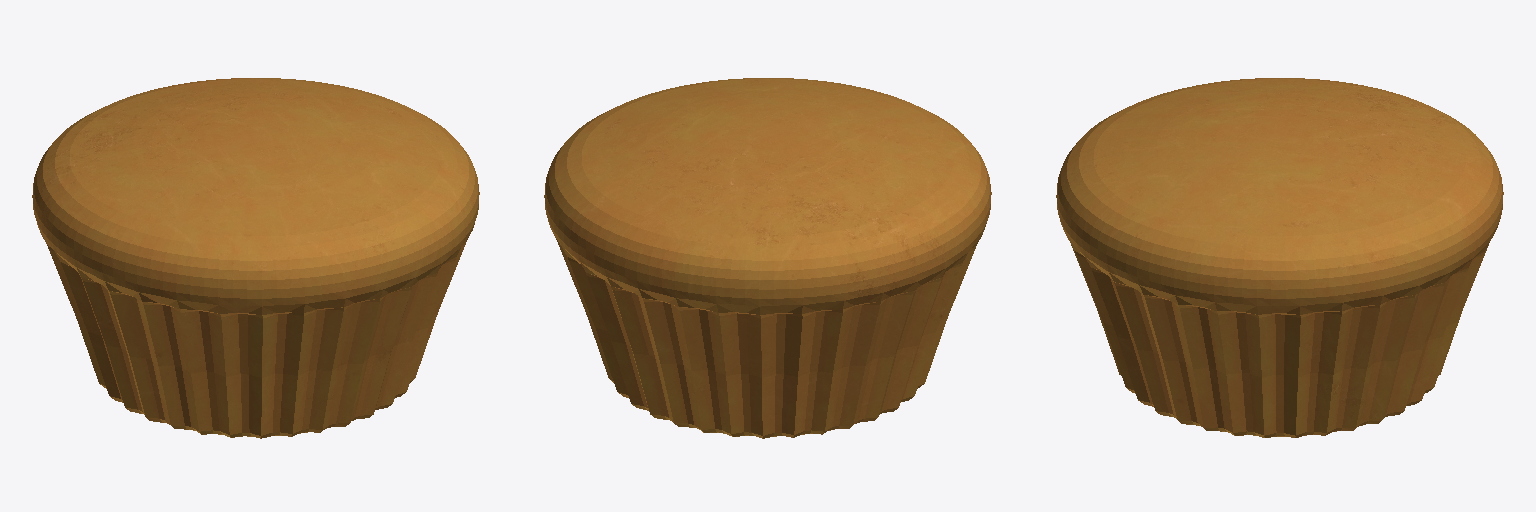
3 views of the same model, side by side, from view 1: azimuth 30°, elevation 25°; view 2: azimuth 150°, elevation 25°; view 3: azimuth 270°, elevation 25° (orthographic).
Visible parts, largest first — view 1: cake_Small_GEO_cake_Small_GEOMesh; view 2: cake_Small_GEO_cake_Small_GEOMesh; view 3: cake_Small_GEO_cake_Small_GEOMesh.
Part boxes in pixels (left/top/right/bottom): cake_Small_GEO_cake_Small_GEOMesh: left=32, top=78, right=479, bottom=438; cake_Small_GEO_cake_Small_GEOMesh: left=544, top=78, right=991, bottom=438; cake_Small_GEO_cake_Small_GEOMesh: left=1056, top=78, right=1503, bottom=437.
Bounding box in the file's own units: 0.0884 × 0.0525 × 0.0884.
Materials: 1 (1 with a texture image).